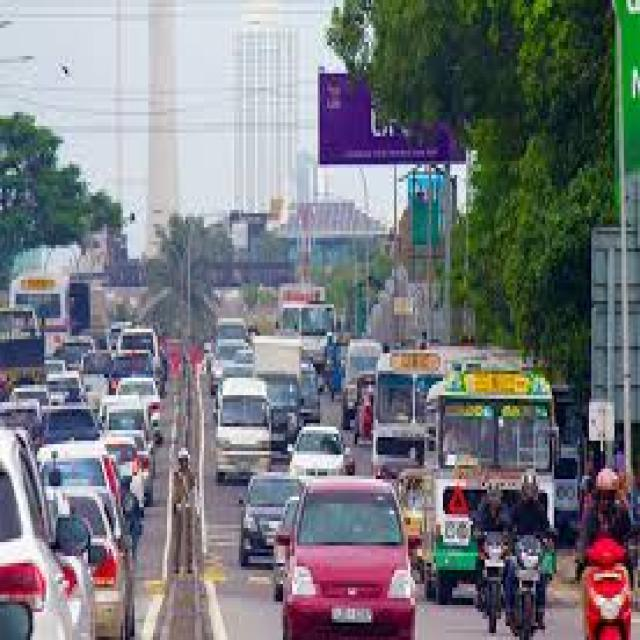bus: (424, 371, 552, 602), (373, 350, 441, 476), (9, 276, 67, 357)
car: (283, 476, 413, 640), (0, 430, 74, 640), (70, 486, 130, 637), (46, 486, 95, 640), (239, 472, 301, 563), (292, 423, 352, 476)
motorcycle: (582, 535, 631, 640), (508, 535, 543, 640), (482, 532, 503, 633)
person: (580, 465, 628, 553), (172, 448, 192, 574), (512, 476, 547, 535), (475, 483, 508, 535)
three wheeler: (397, 472, 431, 567), (355, 381, 371, 444)
van: (216, 378, 267, 479)
